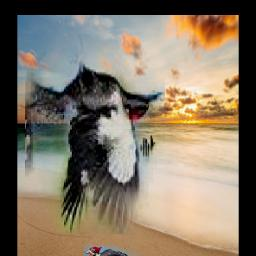Woodpecker: (25, 34, 165, 235), (83, 246, 146, 256)
